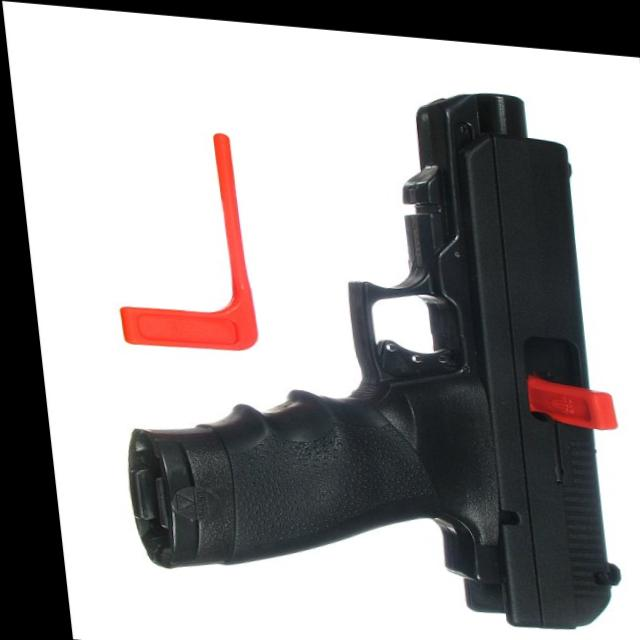handgun: (77, 56, 612, 628)
